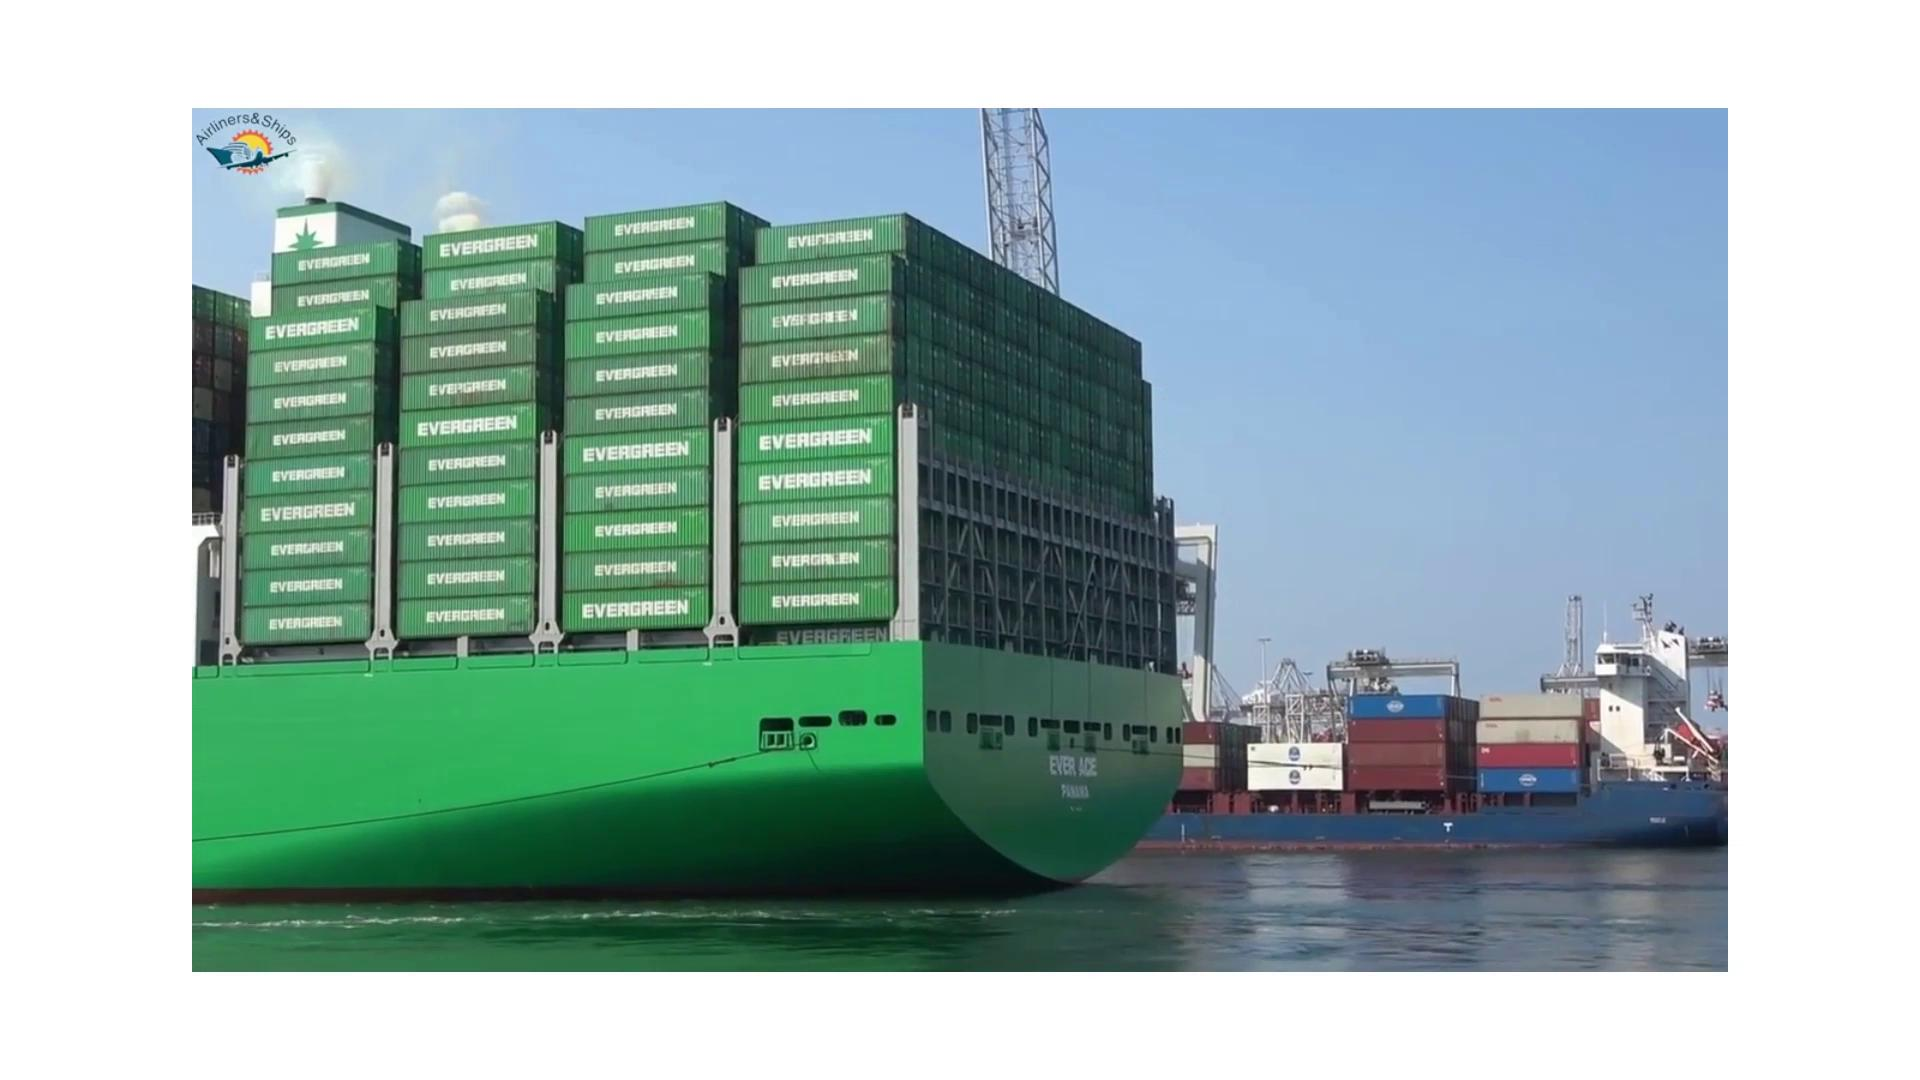OCR: (1034, 741, 1116, 814)
